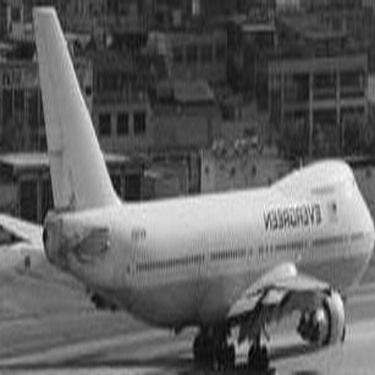airplane: (1, 2, 371, 373)
